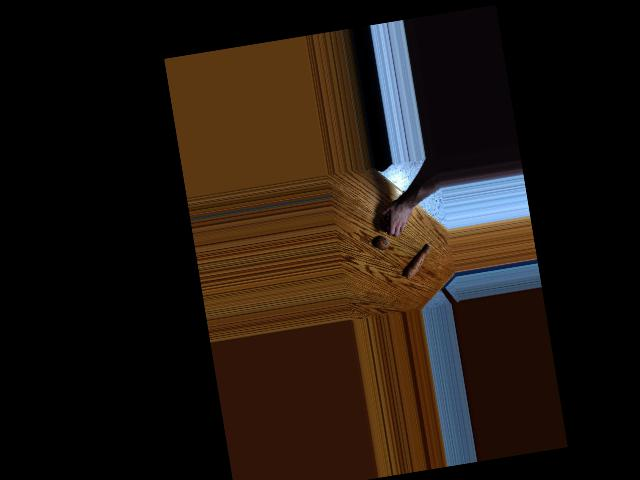onion: (376, 234, 390, 249)
